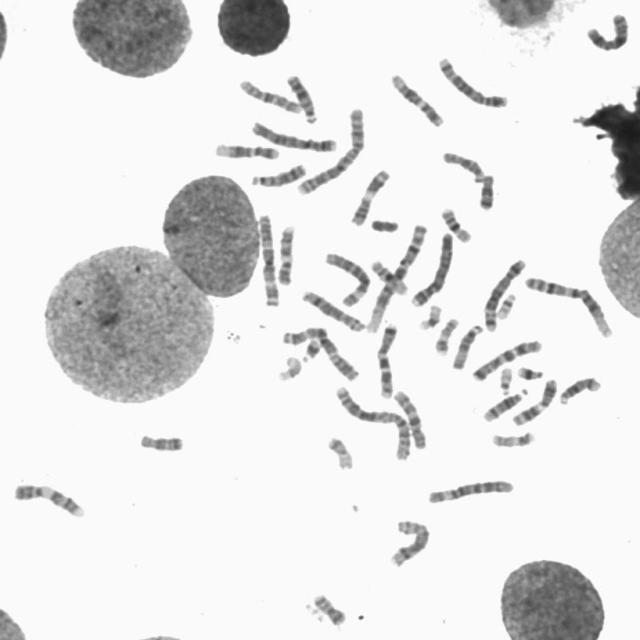A1: (364, 219, 430, 334), (520, 271, 616, 339)
A2: (293, 102, 368, 196), (331, 381, 414, 462)
A3: (277, 320, 361, 382), (255, 208, 282, 308)
B4: (407, 226, 456, 308), (248, 115, 340, 154)
B5: (434, 52, 511, 109), (480, 252, 528, 333)
C10: (235, 73, 304, 115), (389, 386, 428, 450)
C11: (347, 165, 392, 227), (508, 374, 560, 427)
C12: (387, 68, 448, 128), (210, 137, 282, 161)
C6: (321, 246, 373, 308), (423, 475, 516, 505)
C7: (468, 334, 544, 383), (372, 318, 400, 401)
C8: (297, 285, 367, 332), (387, 514, 432, 569)
C9: (8, 478, 88, 519), (274, 220, 297, 286)
D13: (282, 68, 320, 124), (247, 158, 309, 188)
D14: (479, 384, 528, 423), (556, 372, 604, 405)
D15: (448, 319, 486, 371), (438, 146, 487, 182)
E16: (365, 254, 411, 296), (437, 201, 475, 244)
E17: (431, 312, 461, 356), (488, 426, 538, 449)
E18: (136, 429, 187, 453), (475, 169, 497, 211)
F19: (414, 299, 444, 331), (274, 351, 304, 383)
F20: (309, 589, 348, 626), (323, 432, 356, 471)
G21: (298, 334, 323, 362), (513, 361, 546, 381)
G22: (493, 288, 519, 320), (494, 362, 516, 395)
X: (582, 7, 632, 52)
Y: (367, 214, 401, 234)
